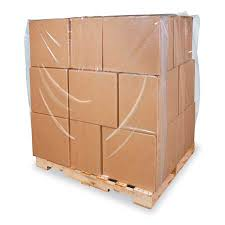box: (100, 123, 153, 194), (103, 16, 158, 75), (67, 68, 118, 128), (118, 72, 158, 134), (29, 112, 70, 170), (27, 17, 69, 70), (27, 65, 68, 119), (68, 119, 102, 177), (69, 17, 103, 71), (159, 15, 174, 73), (175, 15, 186, 66), (186, 15, 195, 64)
pallet: (33, 141, 200, 209)
